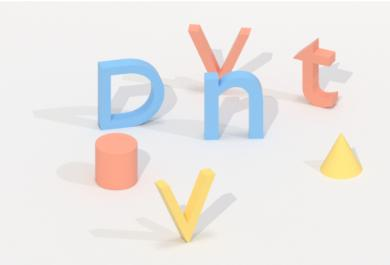0-KhoiTru: (91, 132, 142, 192)
0-TamGiac: (315, 130, 369, 182)
D: (93, 54, 169, 133)
V: (150, 164, 222, 248), (185, 20, 256, 87)
n: (200, 69, 267, 144)
t: (292, 35, 343, 114)
